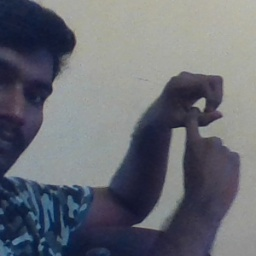Q: (138, 67, 244, 181)
